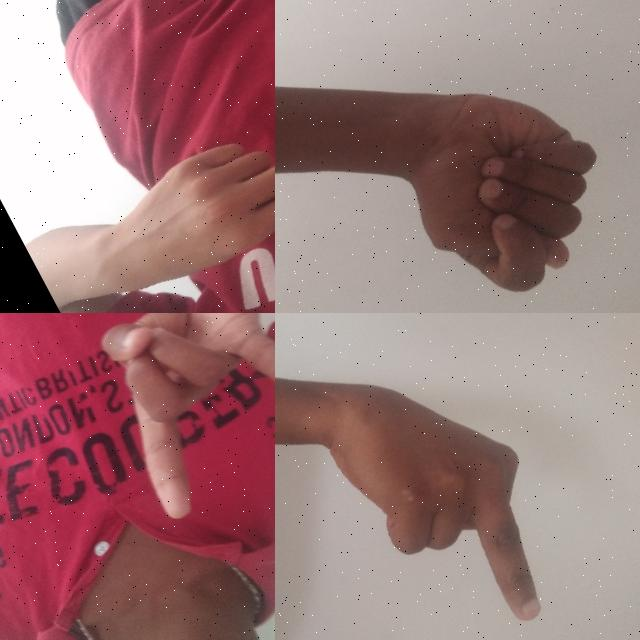Corna: (57, 313, 275, 531)
Dulya: (361, 29, 640, 313)
Five Fathers: (105, 0, 275, 301)
Middle Finger: (291, 322, 595, 640)
